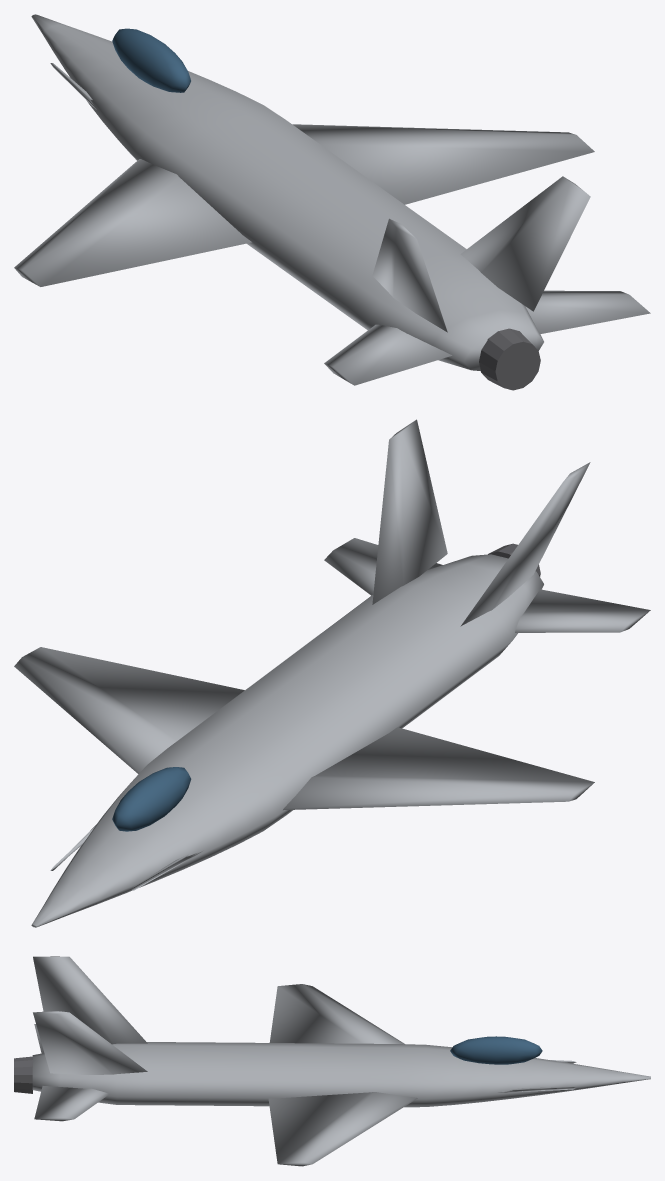
3 renders of one model, top to bottom at view 1: azimuth 30°, elevation 25°; view 2: azimuth 150°, elevation 25°; view 3: azimuth 270°, elevation 25°, orthographic. The views are drawn at different scales.
Parts seen in each view (by area): view 1: Body, Canopy, Detail; view 2: Body, Canopy; view 3: Body, Canopy, Detail.
Part boxes in pixels (x1=…): Body: x1=14, y1=14, x2=650, y2=385; Canopy: x1=112, y1=28, x2=190, y2=92; Detail: x1=479, y1=328, x2=540, y2=390; Body: x1=14, y1=419, x2=650, y2=927; Canopy: x1=112, y1=767, x2=191, y2=831; Body: x1=32, y1=956, x2=650, y2=1166; Canopy: x1=450, y1=1036, x2=542, y2=1064; Detail: x1=14, y1=1056, x2=32, y2=1093.
Size of the model in its own units: 1070 by 315 by 1617.
